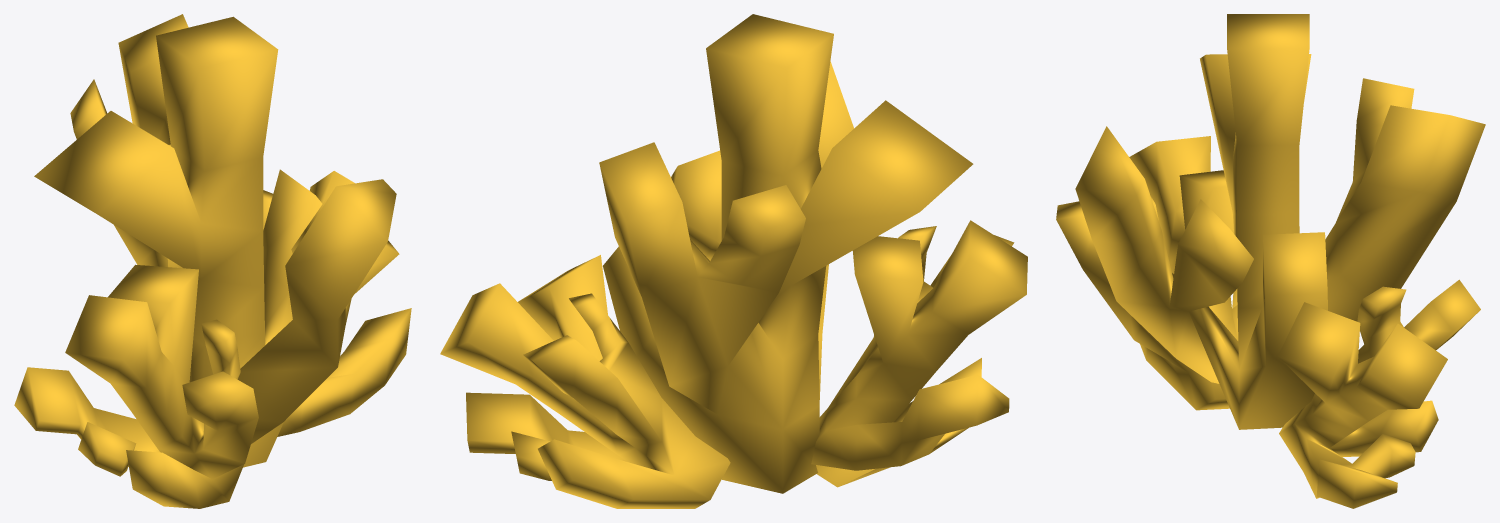
The model's file is coral1_yellow.glb.
The picture shows the model from 3 angles, left to right: view 1: azimuth 30°, elevation 25°; view 2: azimuth 150°, elevation 25°; view 3: azimuth 270°, elevation 25°; orthographic projection. The views are drawn at different scales.
Parts seen in each view (by area): view 1: Cube; view 2: Cube; view 3: Cube.
Part boxes in pixels (x1=…): Cube: x1=14, y1=14, x2=411, y2=508; Cube: x1=440, y1=14, x2=1027, y2=508; Cube: x1=1056, y1=14, x2=1485, y2=508.
Size of the model in its own units: 15.29 by 14.37 by 13.81.
